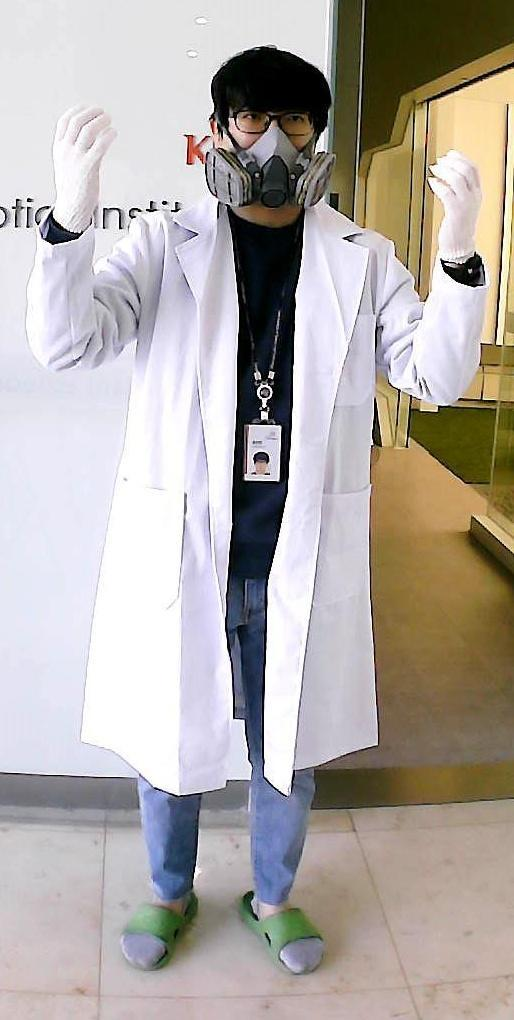lab_coat: (126, 208, 392, 773)
